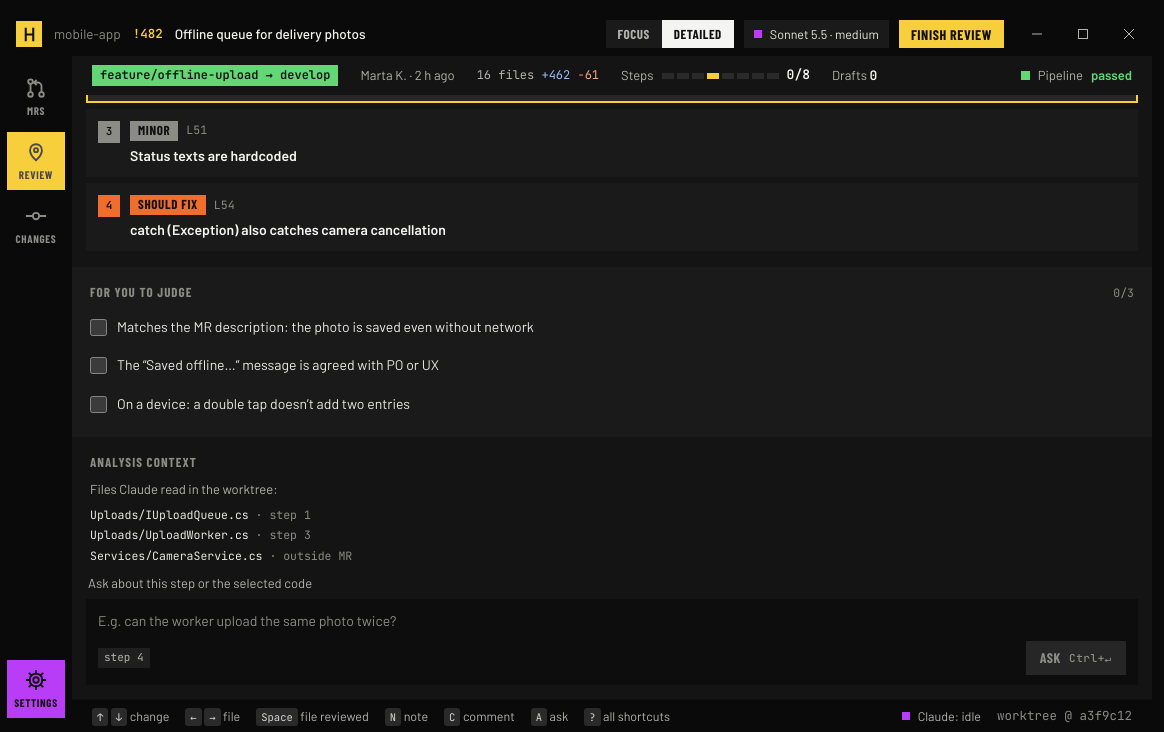
Test: S-04 Ask box (F-08.7) › F-08.7 the Ask button asks too; a follow-up from the Ask box continues in the same card
(page scrolled)
In the field labelled "Ask about this step or the selected code": point(612, 621) 98,609 -> 1126,633, type "Can the worker upload the same photo twice?"
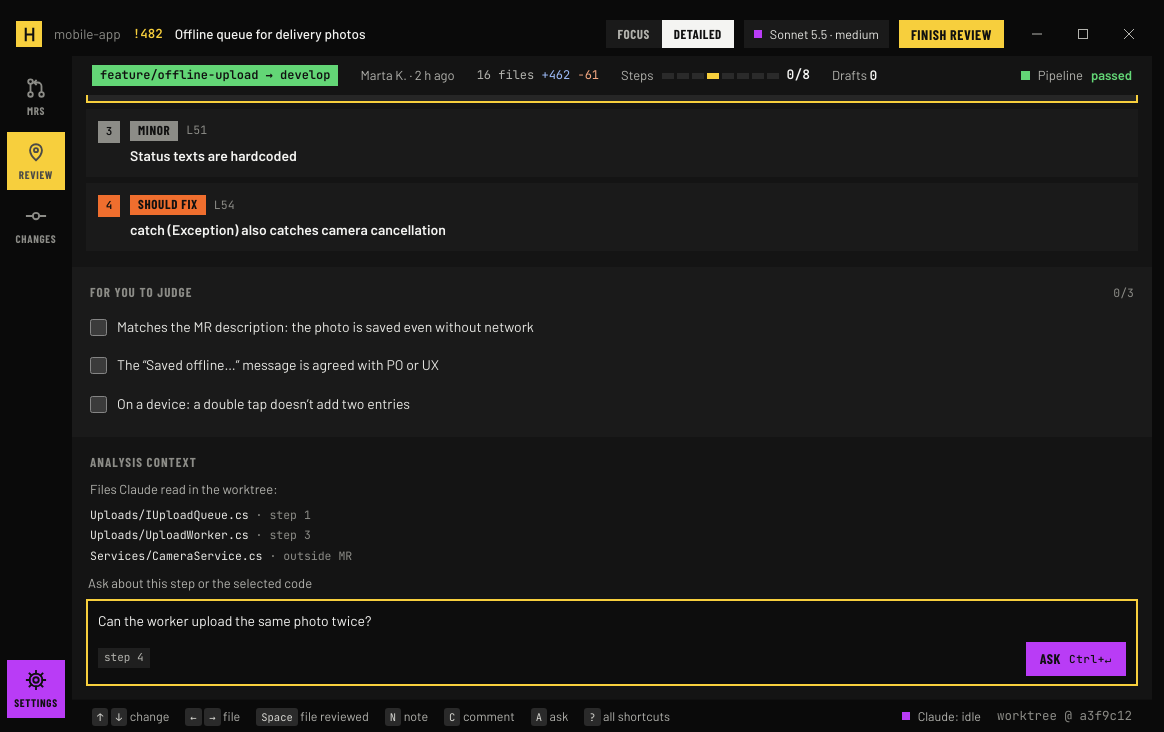
Result: the button "Ask Ctrl+↵" is enabled
Click the button "Ask Ctrl+↵": point(1076, 658) 1026,641 -> 1126,675
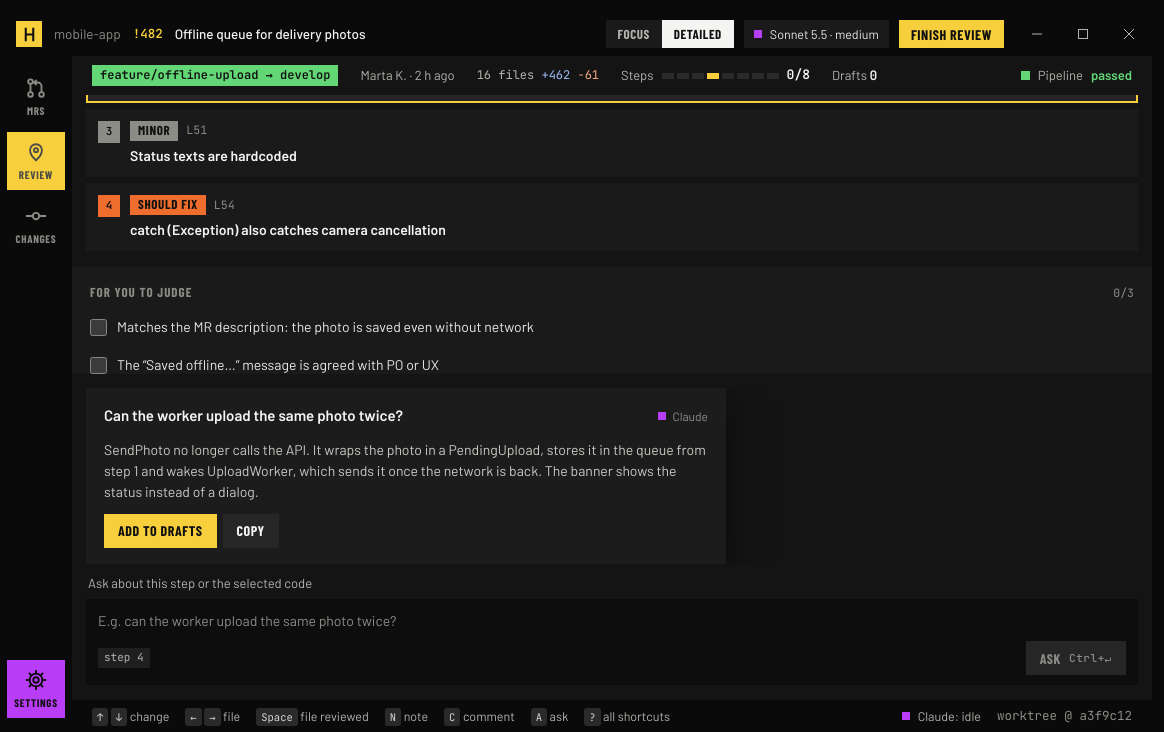
In the field labelled "Ask about this step or the selected code": point(612, 621) 98,609 -> 1126,633, type "And after a restart?"
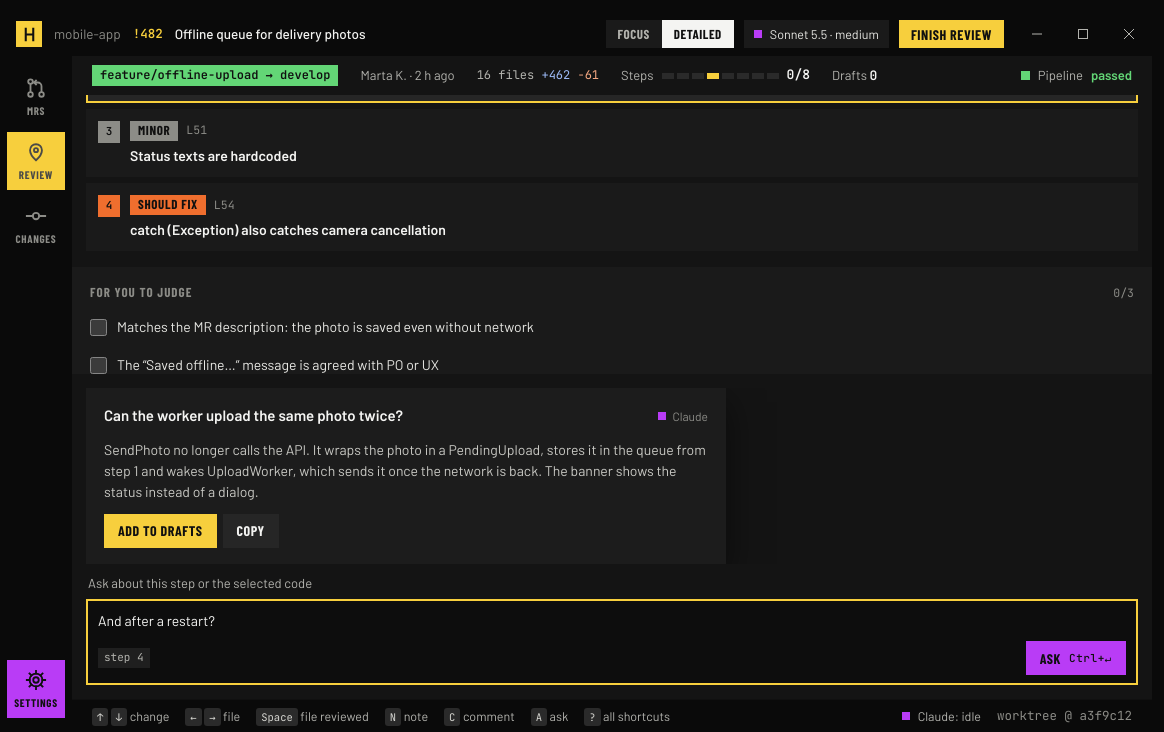
Type keys "{Control>}{Enter}{/Control}"
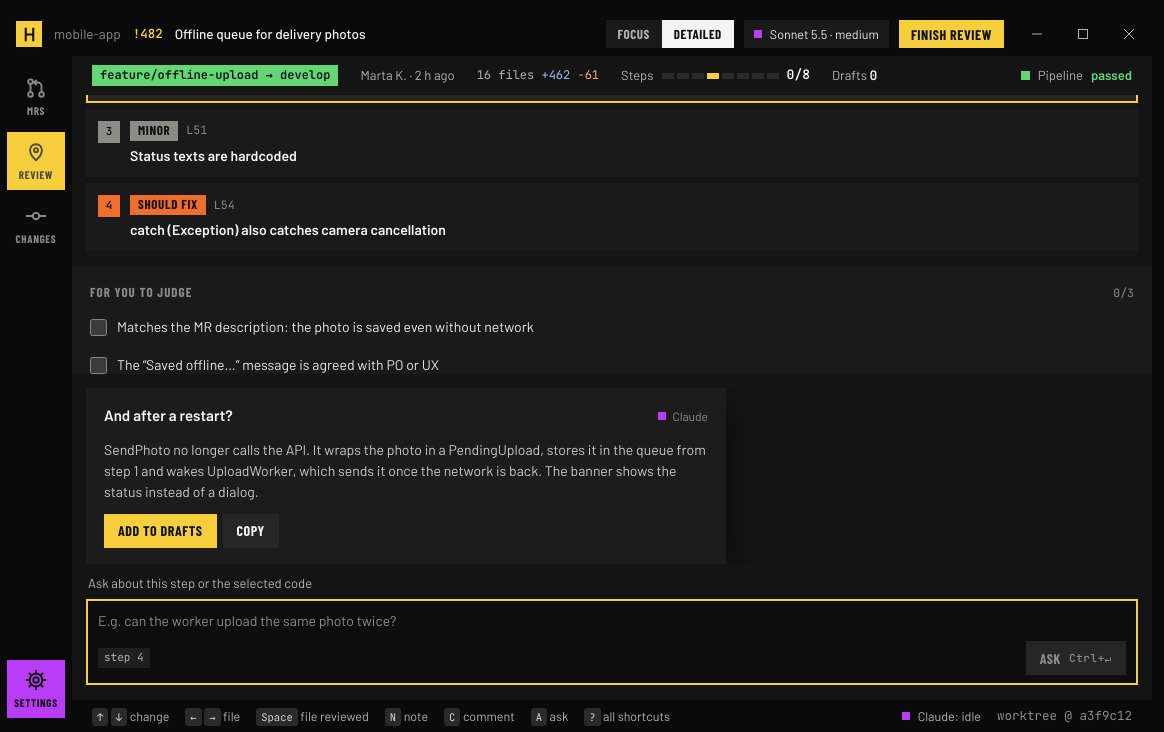
Result: the number of elements named "Claude answer" is 1 at 86,389 -> 726,564
Result: the text "And after a restart?" is shown at 104,405 -> 233,427
